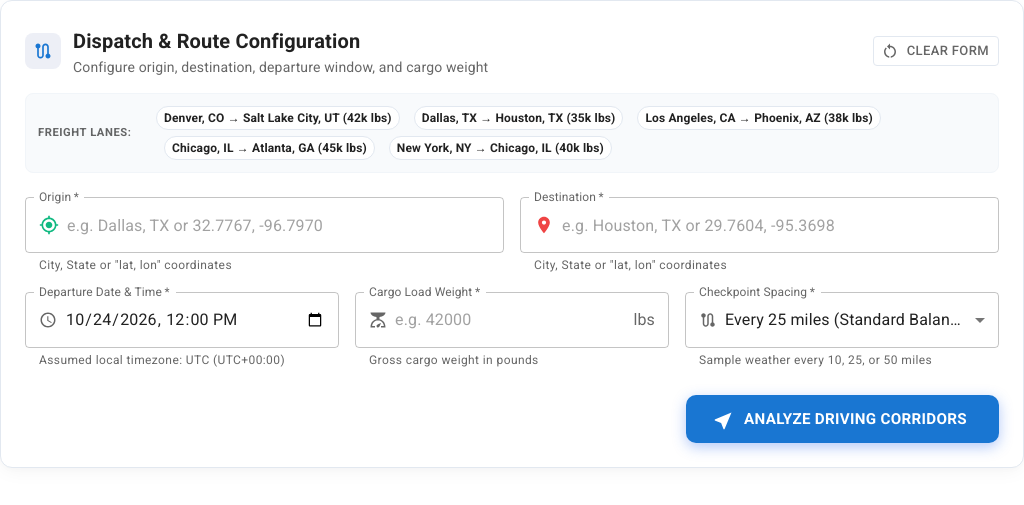
Scenario: TripPlannerForm component › validates empty origin and destination
The width and height of the screenshot is (1024, 505).
Click the button "Analyze Driving Corridors".
click(842, 419)  # box [686,395,999,443]
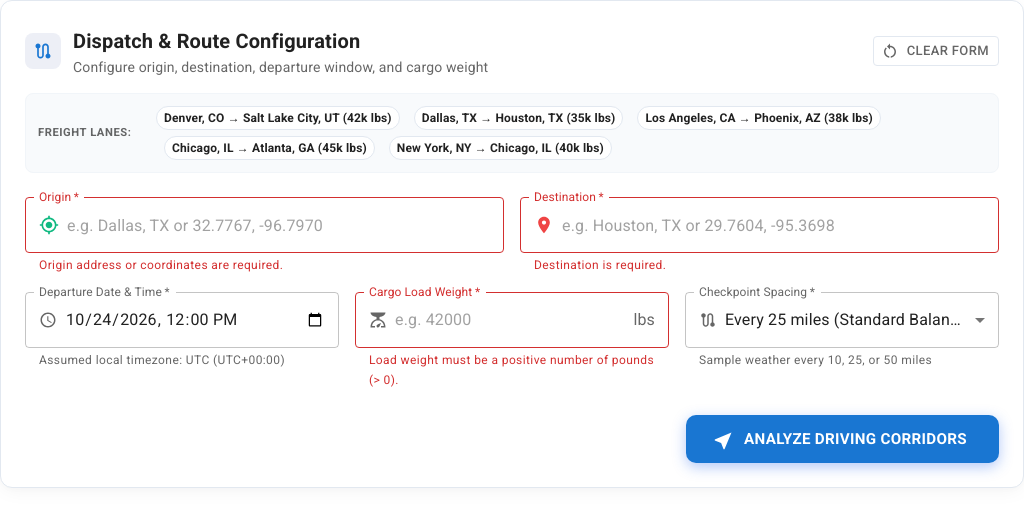
Now the text "Origin address or coordinates are required." is shown, box [39,258,283,272]
